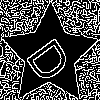D: (24, 30, 80, 87)
